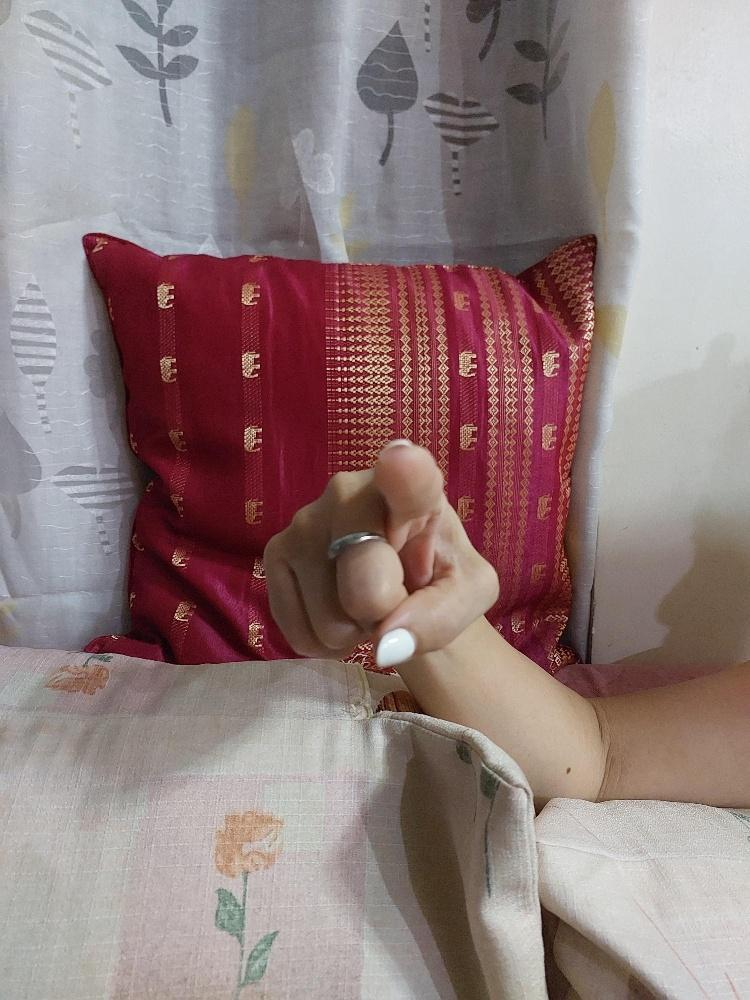z: (255, 438, 503, 675)
